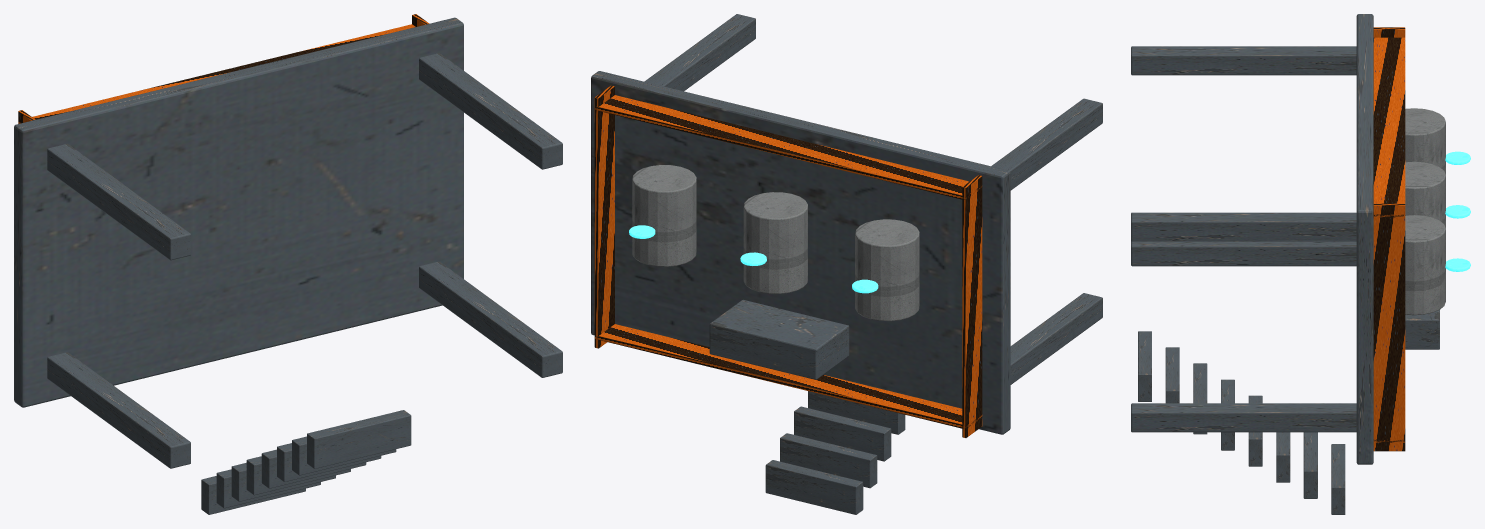
Rendered from raised_ops_deck.glb.
The picture shows the model from 3 angles, left to right: view 1: azimuth 30°, elevation 25°; view 2: azimuth 150°, elevation 25°; view 3: azimuth 270°, elevation 25°; orthographic projection. The views are drawn at different scales.
Visible parts, largest first — view 1: OpsDeck, OpsLeg_-4.2-2.25, OpsLeg_4.2-2.25, OpsLeg_-4.22.25, OpsLeg_4.22.25, OpsStep_0, OpsRailZ_2.65, OpsStep_6, OpsStep_7, OpsStep_3, OpsStep_4, OpsStep_5 (+2 smaller); view 2: OpsDeck, OpsConsole, OpsRailZ_2.65, OpsRailZ_-2.65, OpsTank_-2.7, OpsTank_0, OpsTank_2.7, OpsRailX_-4.45, OpsRailX_4.45, OpsLeg_-4.22.25, OpsLeg_-4.2-2.25, OpsLeg_4.22.25 (+4 smaller); view 3: OpsRailX_4.45, OpsDeck, OpsLeg_4.22.25, OpsLeg_-4.22.25, OpsLeg_4.2-2.25, OpsLeg_-4.2-2.25, OpsRailZ_2.65, OpsTank_2.7, OpsTank_0, OpsTank_-2.7, OpsConsole, OpsStep_7 (+7 smaller).
Part boxes in pixels (x1,y1,x2,y2): OpsDeck: [14, 17, 463, 407]; OpsLeg_-4.2-2.25: [47, 352, 190, 468]; OpsLeg_4.2-2.25: [419, 261, 562, 377]; OpsLeg_-4.22.25: [47, 143, 190, 260]; OpsLeg_4.22.25: [419, 53, 562, 169]; OpsStep_0: [307, 410, 411, 468]; OpsRailZ_2.65: [18, 24, 415, 123]; OpsStep_6: [216, 469, 320, 508]; OpsStep_7: [201, 476, 305, 514]; OpsStep_3: [261, 449, 366, 488]; OpsStep_4: [246, 456, 350, 495]; OpsStep_5: [231, 462, 335, 501]; OpsDeck: [591, 71, 1010, 434]; OpsConsole: [709, 299, 849, 379]; OpsRailZ_2.65: [595, 95, 981, 199]; OpsRailZ_-2.65: [595, 324, 982, 429]; OpsTank_-2.7: [855, 219, 919, 321]; OpsTank_0: [743, 192, 807, 293]; OpsTank_2.7: [632, 165, 696, 266]; OpsRailX_-4.45: [962, 175, 982, 437]; OpsRailX_4.45: [594, 85, 614, 348]; OpsLeg_-4.22.25: [991, 98, 1102, 190]; OpsLeg_-4.2-2.25: [1010, 293, 1102, 384]; OpsLeg_4.22.25: [644, 14, 755, 91]; OpsRailX_4.45: [1373, 203, 1405, 451]; OpsDeck: [1356, 14, 1373, 464]; OpsLeg_4.22.25: [1131, 212, 1356, 241]; OpsLeg_-4.22.25: [1131, 46, 1356, 75]; OpsLeg_4.2-2.25: [1131, 403, 1356, 432]; OpsLeg_-4.2-2.25: [1131, 241, 1356, 266]; OpsRailZ_2.65: [1373, 37, 1405, 217]; OpsTank_2.7: [1405, 215, 1445, 315]; OpsTank_0: [1405, 161, 1445, 227]; OpsTank_-2.7: [1405, 108, 1445, 174]; OpsConsole: [1405, 310, 1439, 349]; OpsStep_7: [1331, 444, 1345, 514].
Bounding box in the file's own units: 10 × 8.99 × 7.26.
5 materials, 5 textured.
